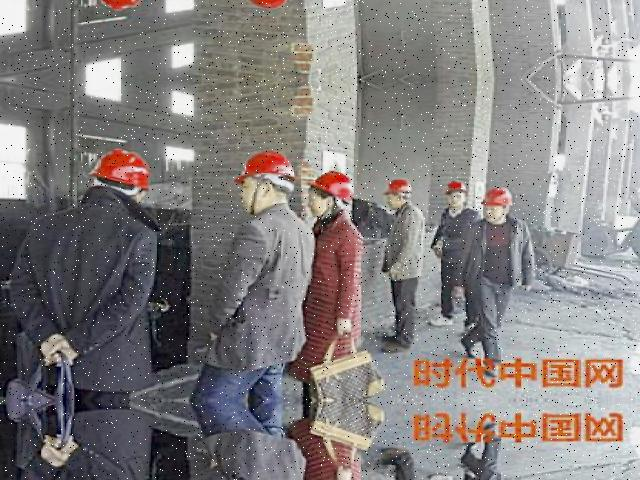Helmet: (86, 142, 154, 194), (230, 146, 300, 190), (303, 166, 360, 207), (473, 182, 515, 210), (378, 175, 418, 200), (438, 173, 471, 196)
